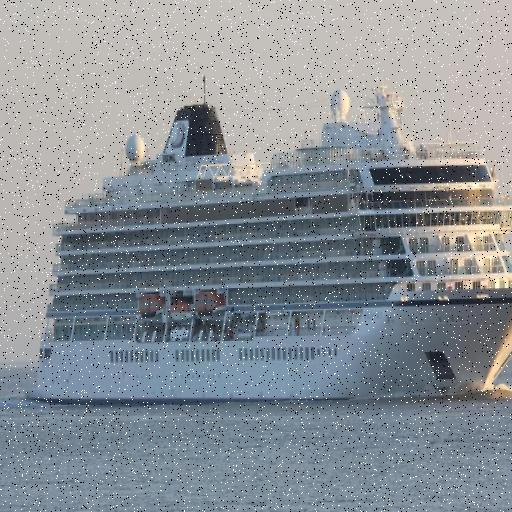cruises: (22, 70, 512, 416)
